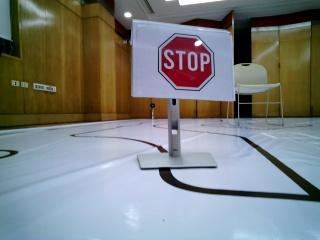stop: (139, 29, 231, 99)
